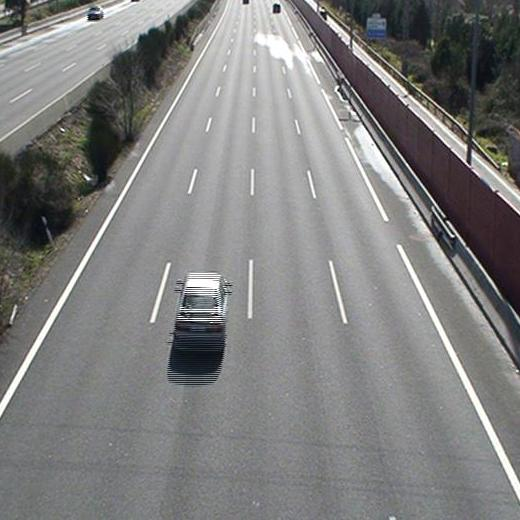car: (175, 272, 227, 357)
